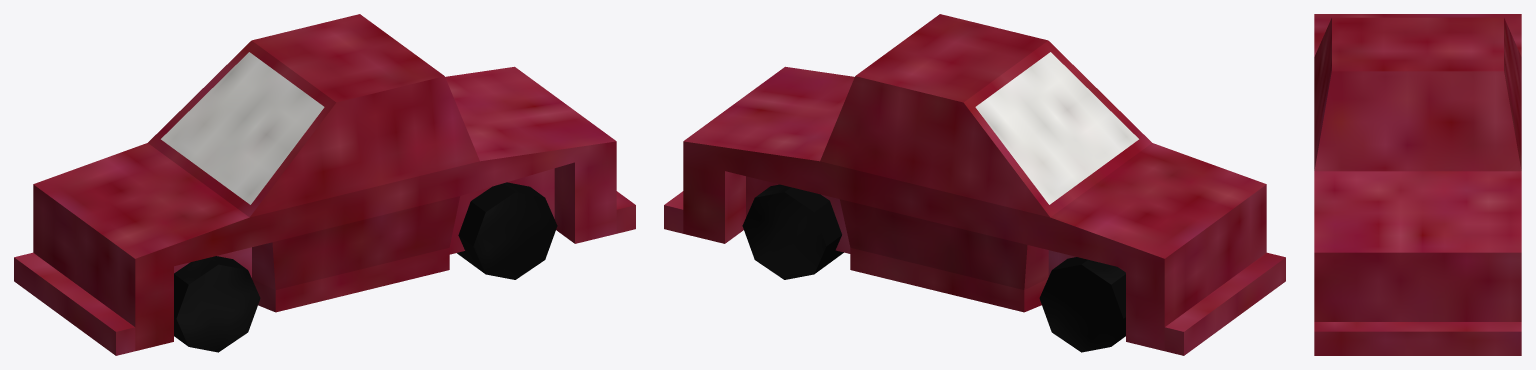
The model's file is car.fbx.
The picture shows the model from 3 angles, left to right: view 1: azimuth 30°, elevation 25°; view 2: azimuth 150°, elevation 25°; view 3: azimuth 270°, elevation 25°; orthographic projection.
Parts seen in each view (by area): view 1: Cube.032, Cylinder.004, Cylinder.007; view 2: Cube.032, Cylinder.004, Cylinder.007; view 3: Cube.032.
Part boxes in pixels (<box>): Cube.032: <box>14,14,635,355</box>; Cylinder.004: <box>457,182,557,279</box>; Cylinder.007: <box>174,256,260,352</box>; Cube.032: <box>664,14,1285,355</box>; Cylinder.004: <box>742,184,843,279</box>; Cylinder.007: <box>1039,257,1125,352</box>; Cube.032: <box>1314,14,1521,355</box>.
Size of the model in its own units: 152 by 60.97 by 51.66.
